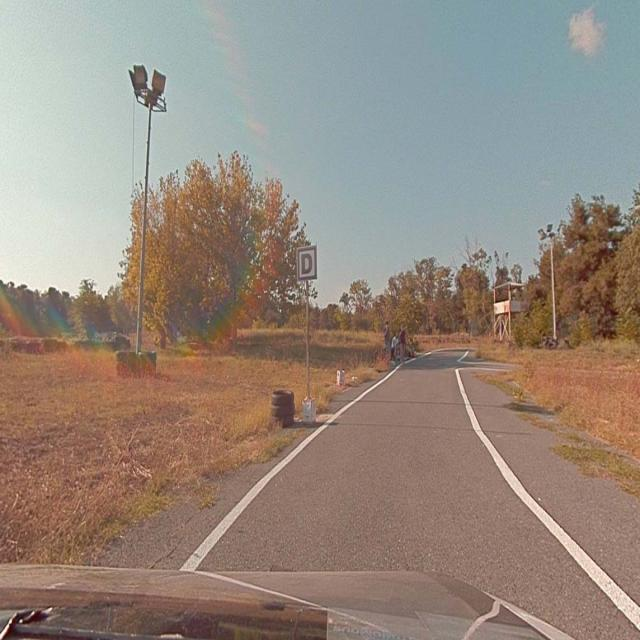durak: (297, 246, 316, 280)
